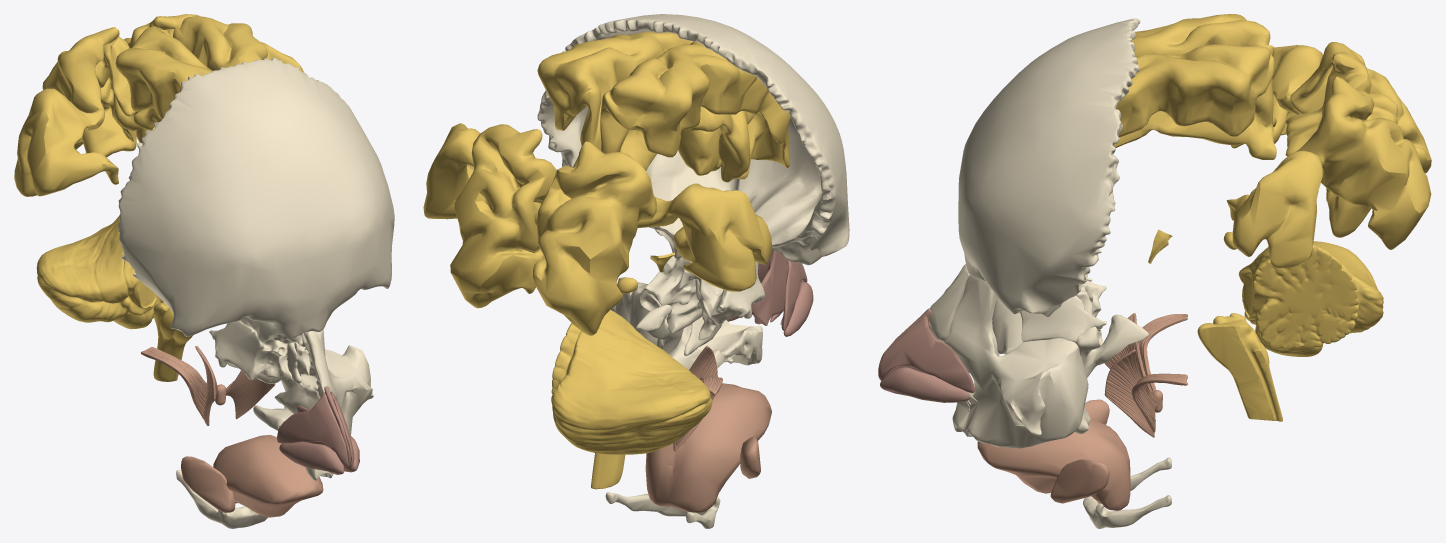
The model's file is head-3.glb.
The picture shows the model from 3 angles, left to right: view 1: azimuth 30°, elevation 25°; view 2: azimuth 150°, elevation 25°; view 3: azimuth 270°, elevation 25°; orthographic projection. The views are drawn at different scales.
Visible parts, largest first — view 1: FJ3200, FJ1830, FJ1842, FJ1836, FJ2761, FJ1834, FJ3199, FJ1833, FJ3269, FJ2558, FJ2768, FJ1831 (+10 smaller); view 2: FJ3200, FJ1834, FJ1830, FJ1836, FJ1835, FJ1833, FJ2761, FJ1842, FJ3199, FJ1841, FJ3269, FJ3273 (+8 smaller); view 3: FJ3200, FJ3269, FJ1833, FJ1835, FJ1830, FJ1841, FJ2761, FJ1836, FJ1831, FJ1834, FJ2556, FJ3199 (+10 smaller).
Boxes of the visible parts, x1,y1,x2,y2 form: FJ3200: [118, 57, 394, 346]; FJ1830: [36, 216, 163, 329]; FJ1842: [14, 88, 118, 196]; FJ1836: [42, 27, 141, 157]; FJ2761: [213, 435, 323, 517]; FJ1834: [115, 26, 212, 129]; FJ3199: [209, 320, 310, 383]; FJ1833: [173, 16, 267, 70]; FJ3269: [279, 329, 373, 480]; FJ2558: [277, 392, 348, 468]; FJ2768: [181, 456, 235, 512]; FJ1831: [153, 302, 192, 381]; FJ3200: [537, 14, 849, 265]; FJ1834: [600, 41, 790, 182]; FJ1830: [551, 310, 712, 454]; FJ1836: [532, 141, 656, 335]; FJ1835: [450, 124, 556, 308]; FJ1833: [537, 31, 721, 175]; FJ2761: [645, 383, 771, 512]; FJ1842: [637, 183, 772, 291]; FJ3199: [643, 256, 764, 340]; FJ1841: [423, 123, 480, 219]; FJ3269: [611, 277, 762, 365]; FJ3273: [635, 289, 724, 369]; FJ3200: [958, 18, 1140, 316]; FJ3269: [944, 276, 1088, 448]; FJ1833: [1113, 44, 1276, 159]; FJ1835: [1285, 76, 1431, 249]; FJ1830: [1238, 241, 1383, 356]; FJ1841: [1226, 150, 1323, 268]; FJ2761: [977, 418, 1130, 510]; FJ1836: [1285, 42, 1431, 189]; FJ1831: [1197, 313, 1282, 421]; FJ1834: [1131, 14, 1276, 127]; FJ2556: [878, 315, 974, 392]; FJ3199: [1020, 280, 1106, 342].
Bounding box in the file's own units: 0.1385 × 0.2081 × 0.2149.
